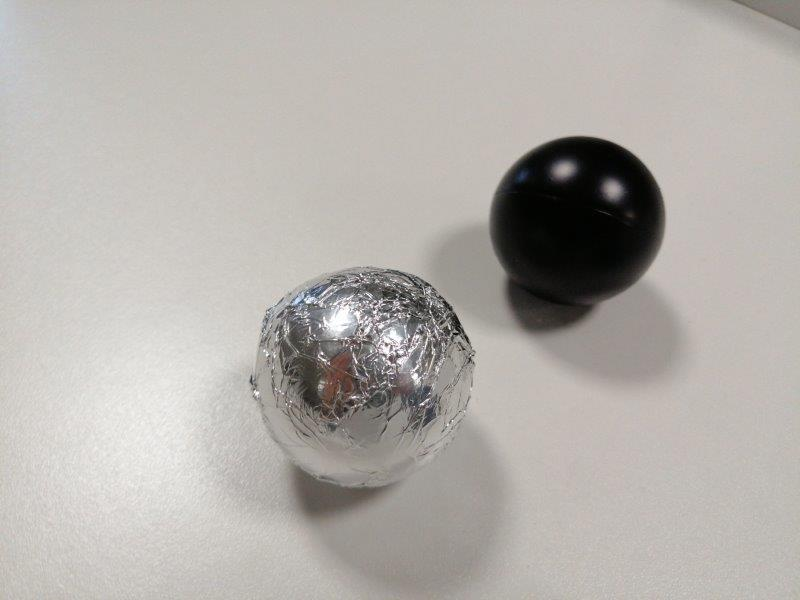bianca: (249, 266, 475, 493)
nera: (488, 135, 667, 308)
